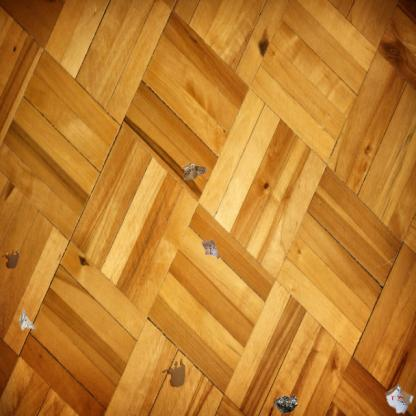dirty: (383, 382, 415, 416), (272, 392, 300, 416), (180, 161, 209, 182), (17, 308, 36, 332), (200, 238, 219, 258)
liquid: (160, 358, 186, 388), (1, 248, 20, 270)
